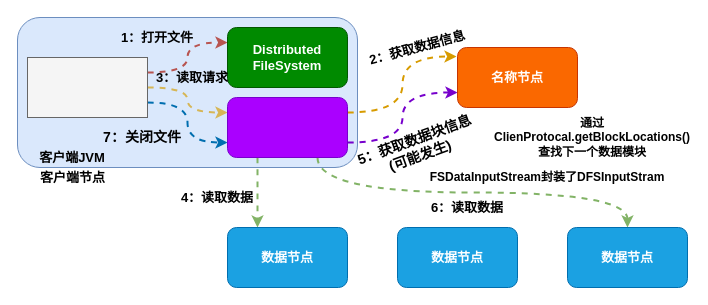
Some shapes in this 708 by 305 pixel diagram are drawn without their labels. The shapes that lost their labels are listed below. From the top down, each one's box as (x1, y1, x2, y2) in pixels, then its label:
(26, 56, 148, 118): HDFS 客户端
(226, 96, 348, 158): FSData OutputStream
